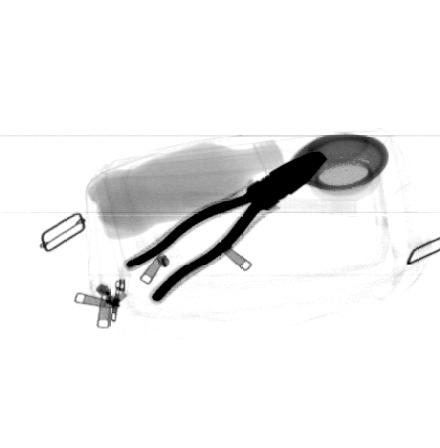Pliers: (124, 149, 328, 304)
